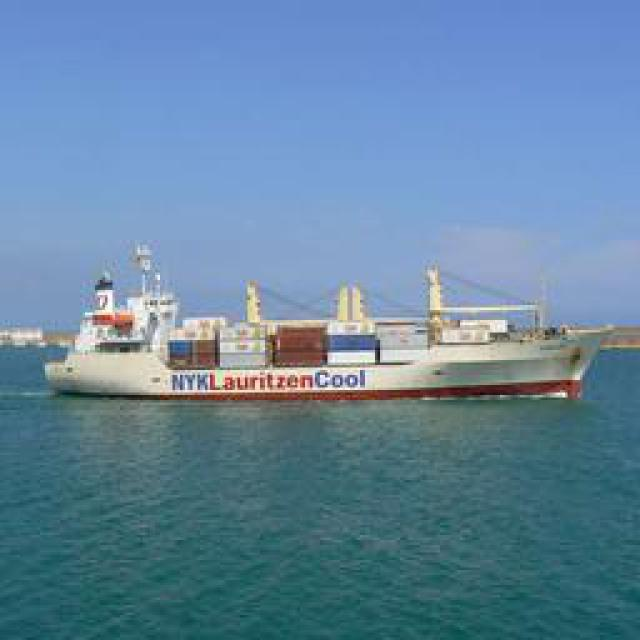Ship: (34, 266, 604, 406)
